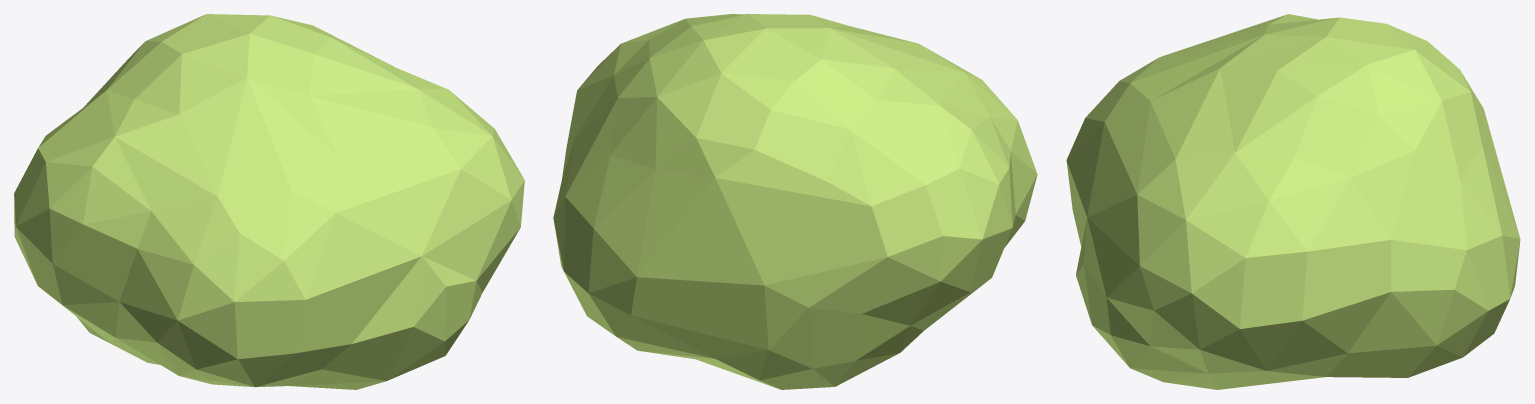
Rendered from Bush_a_l_01.fbx.
The picture shows the model from 3 angles, left to right: view 1: azimuth 30°, elevation 25°; view 2: azimuth 150°, elevation 25°; view 3: azimuth 270°, elevation 25°; orthographic projection.
Visible parts, largest first — view 1: Bush_a_l_01; view 2: Bush_a_l_01; view 3: Bush_a_l_01.
Part boxes in pixels (box(x1,y1,x2,y2)): Bush_a_l_01: box(14, 14, 524, 389); Bush_a_l_01: box(553, 14, 1037, 389); Bush_a_l_01: box(1066, 14, 1520, 389).
Bounding box in the file's own units: 319 × 219 × 279.
